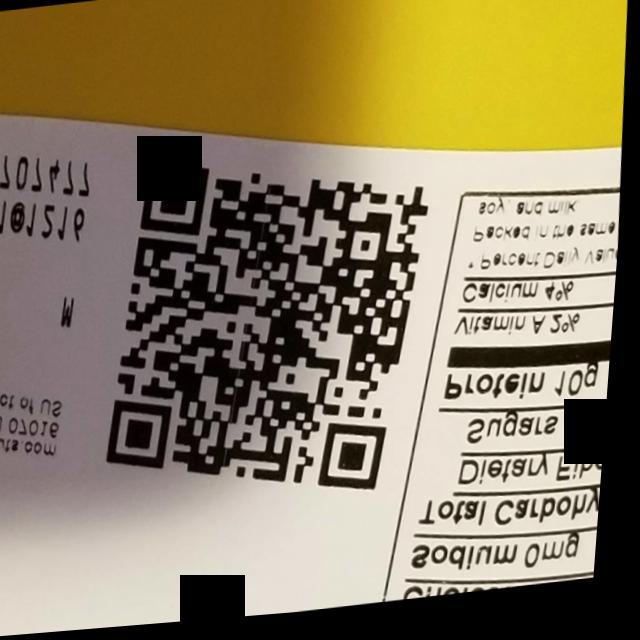QR_CODE: (90, 128, 456, 530)
